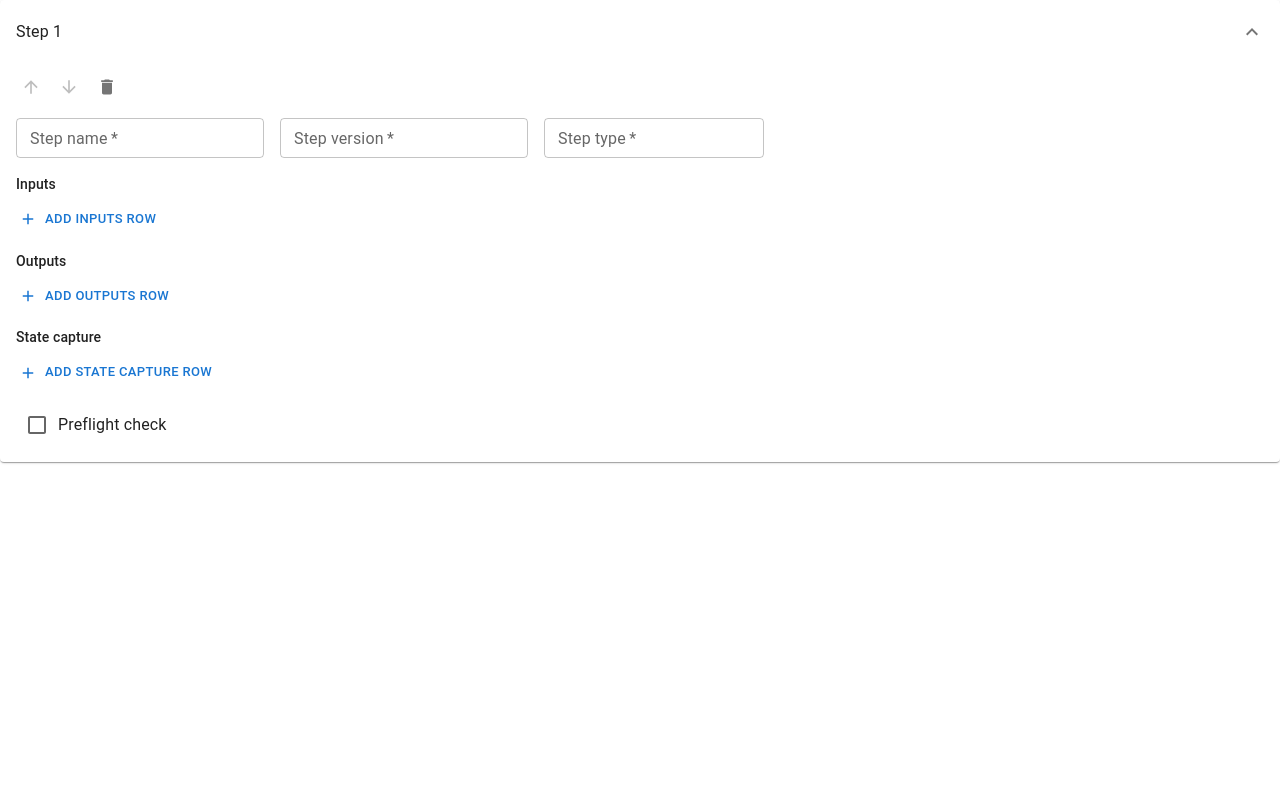
Test: StepEditor › shows the preflight check editor only once its checkbox is checked
Expected: the field labelled "Action on failure" is not shown
Click the checkbox labelled "Preflight check": (96, 425) [25, 413, 167, 437]
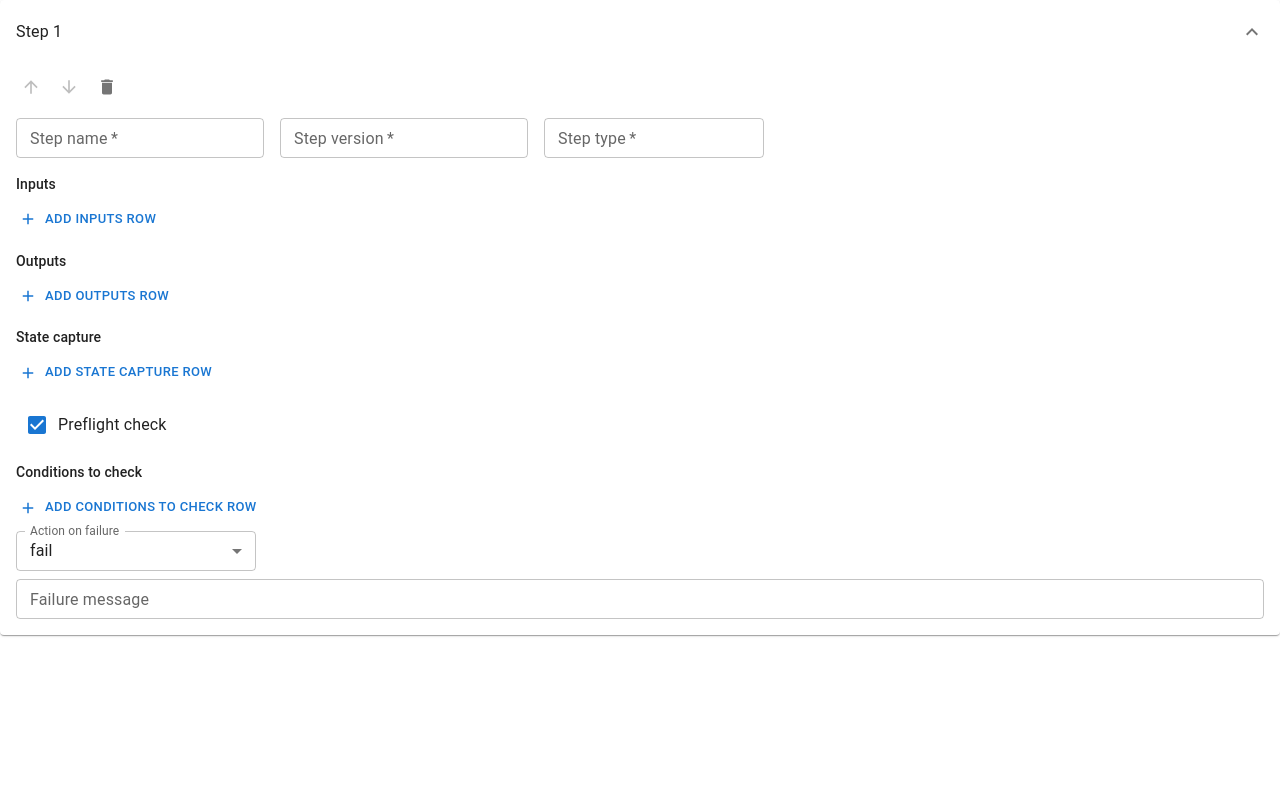
Expected: the dropdown named "Action on failure" reads "fail", [30, 541, 53, 560]
